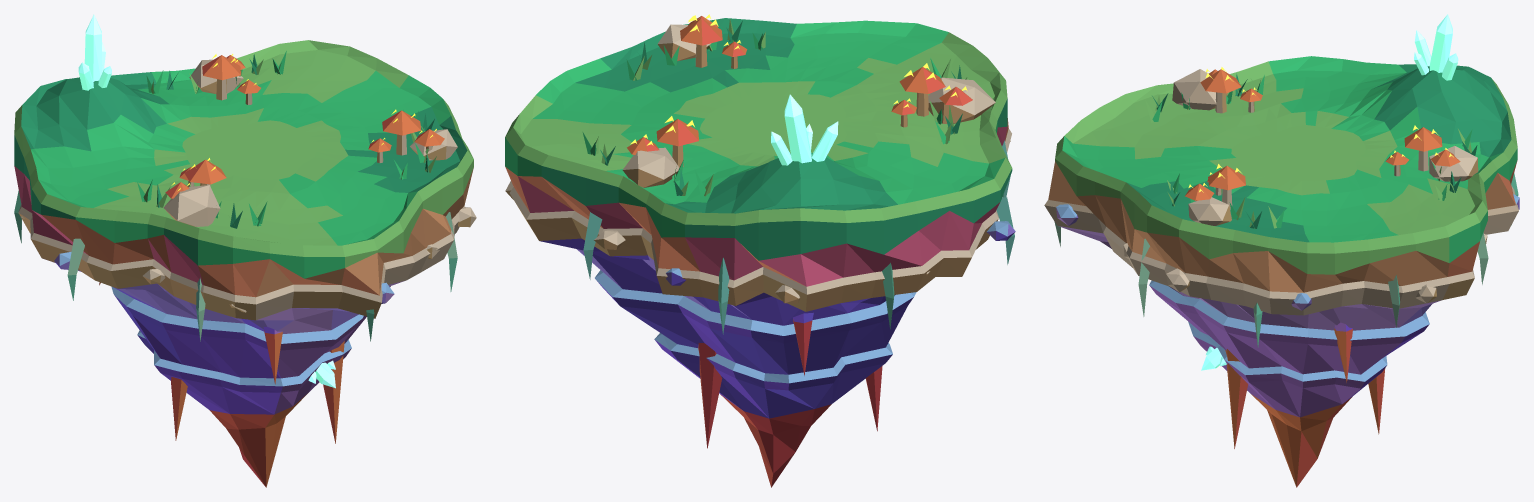
The model's file is island.glb.
3 renders of one model, left to right at view 1: azimuth 30°, elevation 25°; view 2: azimuth 150°, elevation 25°; view 3: azimuth 270°, elevation 25°, orthographic. The views are drawn at different scales.
Parts seen in each view (by area): view 1: IslandBody, IslandCrystals; view 2: IslandBody, IslandCrystals; view 3: IslandBody, IslandCrystals.
Part boxes in pixels (<box>): IslandBody: <box>14,40,476,487</box>; IslandCrystals: <box>78,14,335,388</box>; IslandBody: <box>505,16,1015,487</box>; IslandCrystals: <box>771,94,838,165</box>; IslandBody: <box>1044,56,1519,487</box>; IslandCrystals: <box>1201,14,1458,370</box>.
Bounding box in the file's own units: 4.47 × 4.63 × 4.65.
